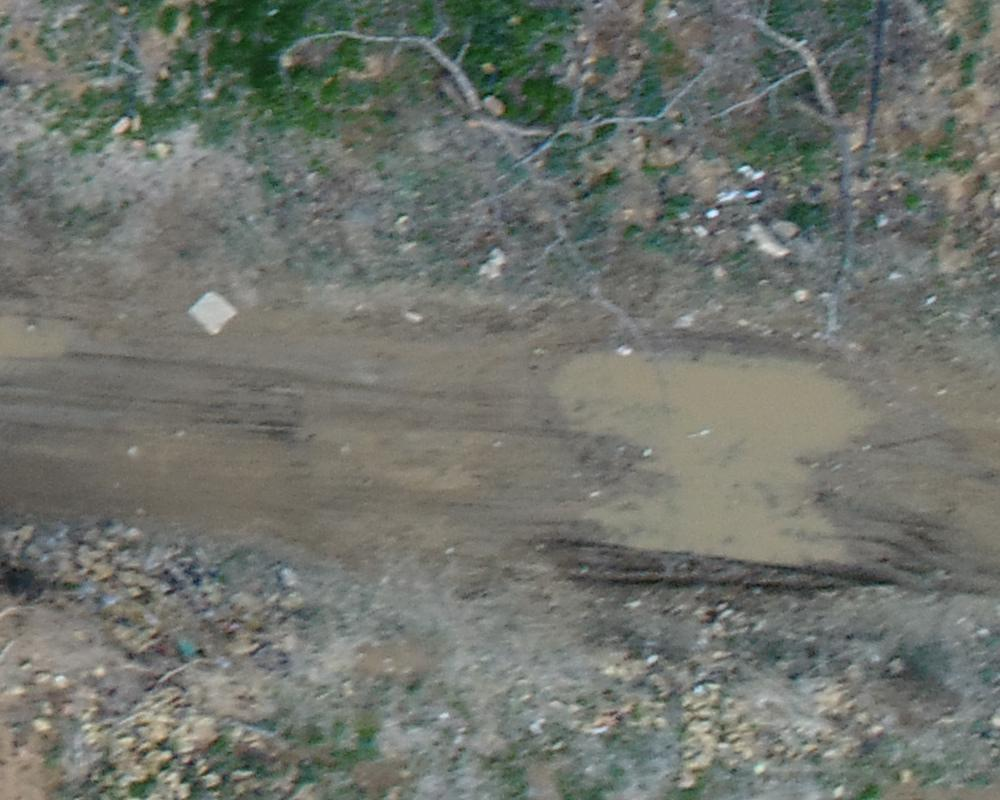apple: (286, 10, 703, 329), (713, 10, 913, 343)
